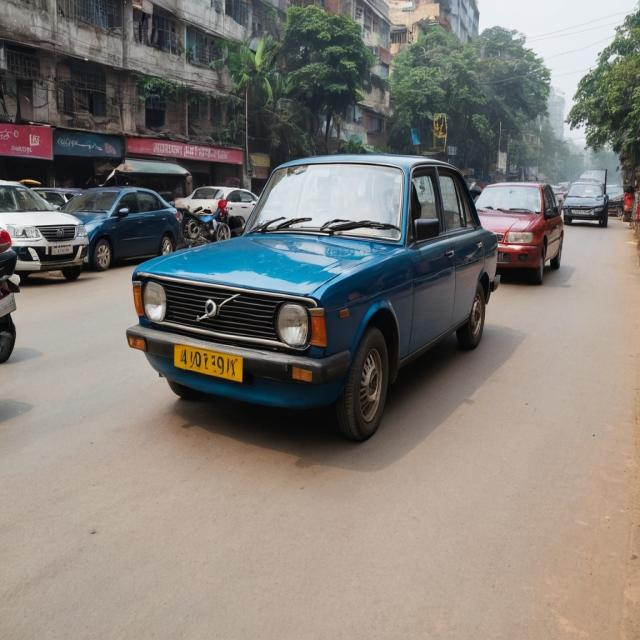blue: (113, 147, 506, 449), (56, 186, 186, 270)
maroon: (466, 182, 563, 284)
white: (0, 174, 88, 310)
